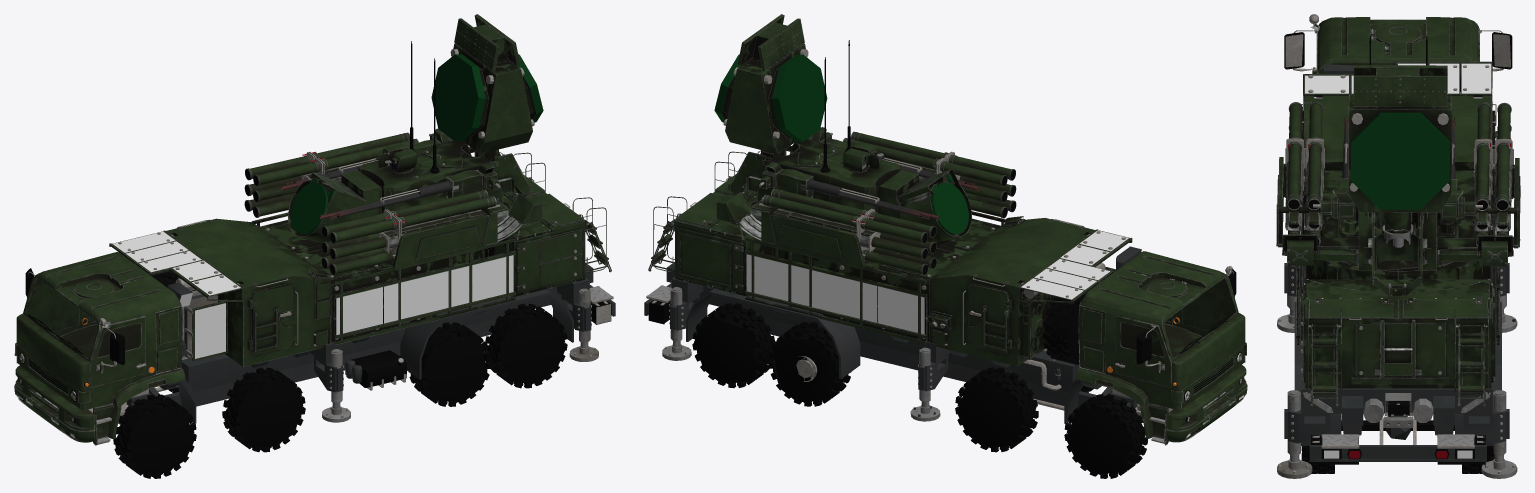
File: pan.glb
3 views of the same model, side by side, from view 1: azimuth 30°, elevation 25°; view 2: azimuth 150°, elevation 25°; view 3: azimuth 270°, elevation 25° (orthographic). The views are drawn at different scales.
Bounding box in the file's own units: 12.44 × 7.21 × 4.03.
24 materials, 15 textured.
